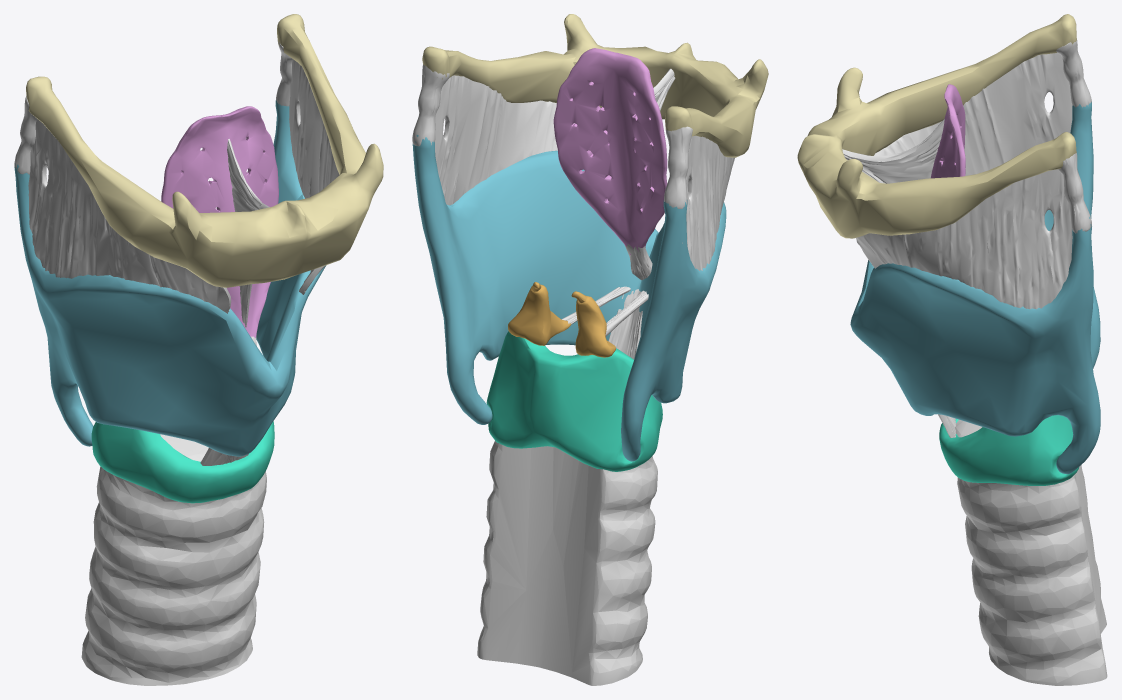
Rendered from anatomy_of_the_larynx.glb.
3 renders of one model, left to right at view 1: azimuth 30°, elevation 25°; view 2: azimuth 150°, elevation 25°; view 3: azimuth 270°, elevation 25°, orthographic. The views are drawn at different scales.
Visible parts, largest first — view 1: Thryoid_cartilage, Trachea, Hyoid, Right_Thyroid_Membrane, Epoglottis, Cricoid_cartilage, Left_Thyroid_Membrane, Hyoepiglottic_Ligament, Right_Thyroid_Ligament, Left_Thyroid_Ligament; view 2: Thryoid_cartilage, Trachea, Epoglottis, Cricoid_cartilage, Hyoid, Left_Thyroid_Membrane, Right_Thyroid_Membrane, Left_Arytenoid_cartilage, Right_Thyroid_Ligament, Right_Arytenoid_cartilage, Left_Thyroid_Ligament, Median_Cricothyroid_Ligament (+1 smaller); view 3: Thryoid_cartilage, Trachea, Hyoid, Left_Thyroid_Membrane, Right_Thyroid_Membrane, Cricoid_cartilage, Hyoepiglottic_Ligament, Epoglottis, Left_Thyroid_Ligament, Right_Thyroid_Ligament.
Part boxes in pixels (bbox=[...]): Thryoid_cartilage: bbox=[14, 100, 326, 456]; Trachea: bbox=[81, 434, 266, 685]; Hyoid: bbox=[26, 14, 383, 287]; Right_Thyroid_Membrane: bbox=[18, 119, 231, 313]; Epoglottis: bbox=[161, 106, 278, 338]; Cricoid_cartilage: bbox=[91, 421, 274, 503]; Left_Thyroid_Membrane: bbox=[289, 59, 339, 294]; Hyoepiglottic_Ligament: bbox=[227, 139, 269, 327]; Right_Thyroid_Ligament: bbox=[14, 95, 37, 174]; Left_Thyroid_Ligament: bbox=[276, 40, 292, 106]; Thryoid_cartilage: bbox=[412, 135, 726, 461]; Trachea: bbox=[477, 441, 657, 685]; Epoglottis: bbox=[553, 48, 667, 254]; Cricoid_cartilage: bbox=[486, 331, 662, 471]; Hyoid: bbox=[422, 14, 768, 157]; Left_Thyroid_Membrane: bbox=[435, 75, 574, 205]; Right_Thyroid_Membrane: bbox=[682, 135, 734, 270]; Left_Arytenoid_cartilage: bbox=[508, 284, 571, 345]; Right_Thyroid_Ligament: bbox=[664, 126, 692, 208]; Right_Arytenoid_cartilage: bbox=[575, 296, 615, 357]; Left_Thyroid_Ligament: bbox=[412, 64, 449, 146]; Median_Cricothyroid_Ligament: bbox=[608, 289, 646, 359]; Thryoid_cartilage: bbox=[850, 102, 1100, 474]; Trachea: bbox=[955, 419, 1107, 685]; Hyoid: bbox=[797, 14, 1076, 238]; Left_Thyroid_Membrane: bbox=[856, 169, 1072, 309]; Right_Thyroid_Membrane: bbox=[874, 53, 1072, 175]; Cricoid_cartilage: bbox=[939, 415, 1078, 485]; Hyoepiglottic_Ligament: bbox=[842, 119, 944, 183]; Epoglottis: bbox=[931, 84, 965, 178]; Left_Thyroid_Ligament: bbox=[1058, 153, 1091, 233]; Right_Thyroid_Ligament: bbox=[1056, 40, 1091, 107].
Size of the model in its own units: 38.66 by 78.53 by 38.36.
